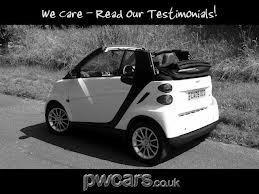car: (43, 43, 221, 169)
